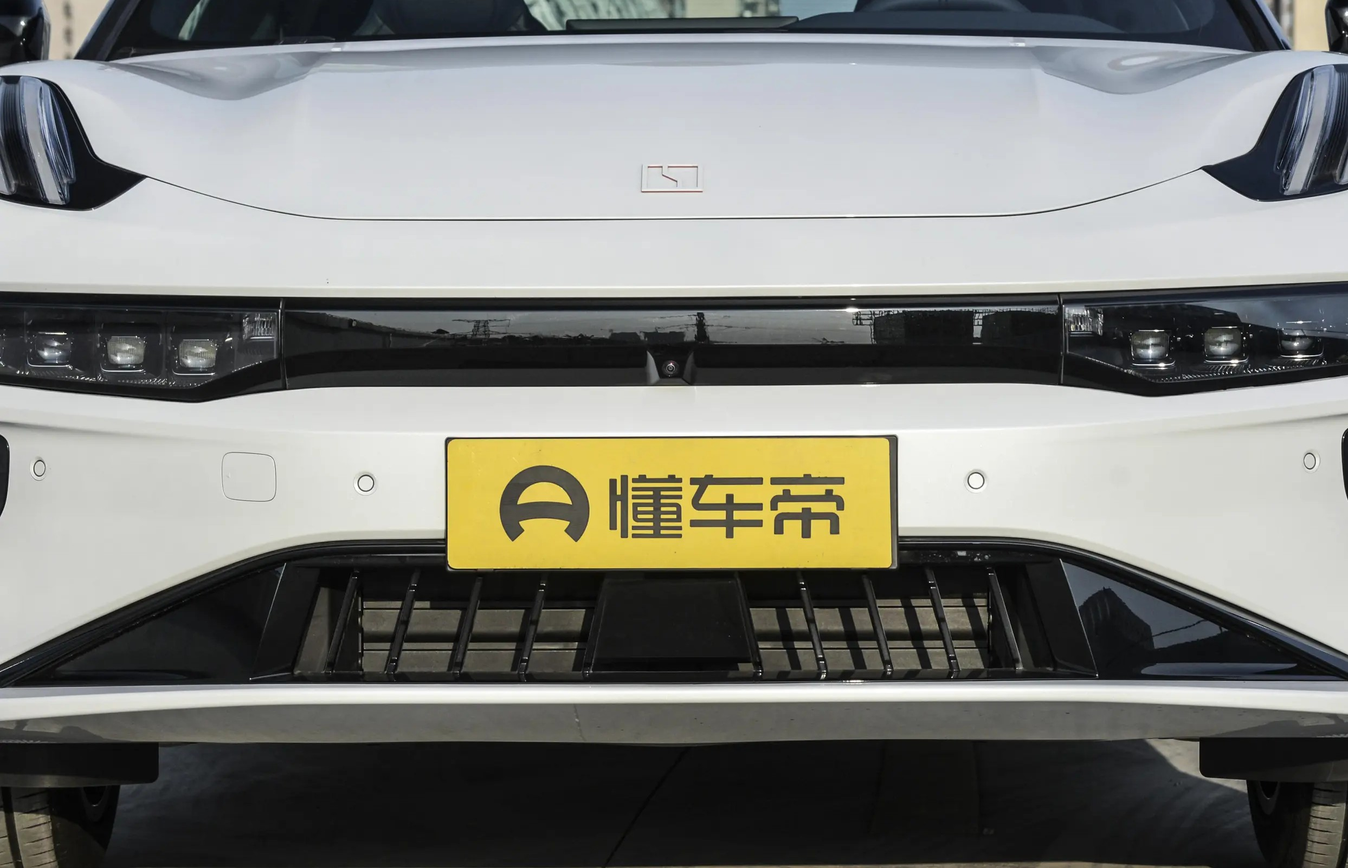ZEEKR: (642, 163, 702, 191)
